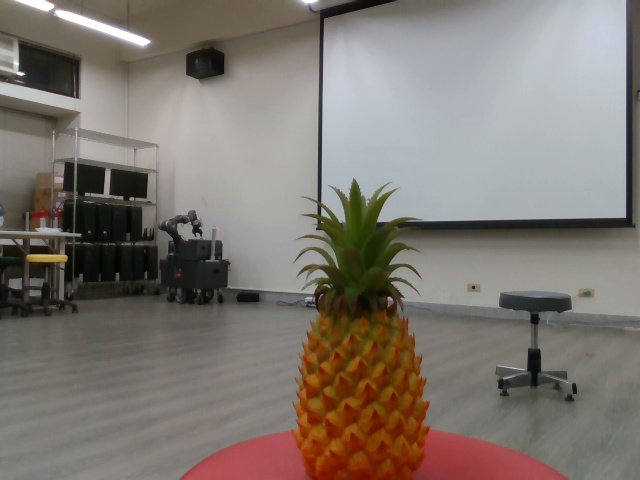pineapple: (286, 172, 436, 480)
